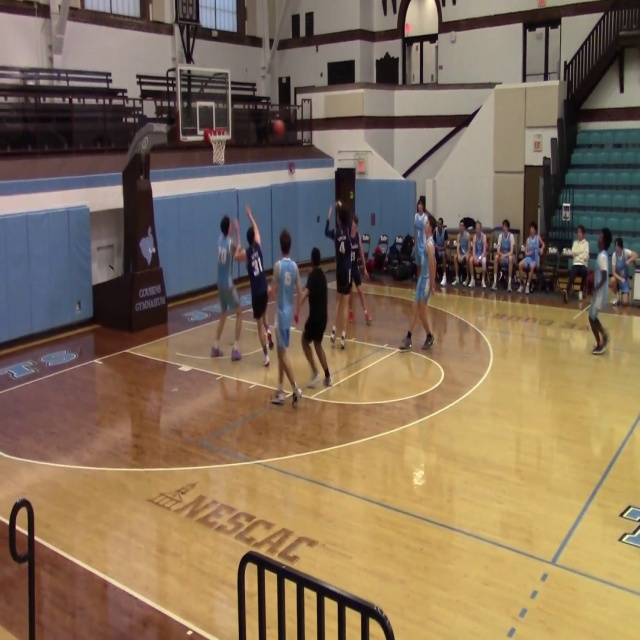Basketball: (272, 119, 285, 137), (234, 247, 246, 262)
